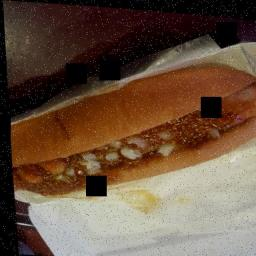hotdog: (2, 32, 256, 216)
